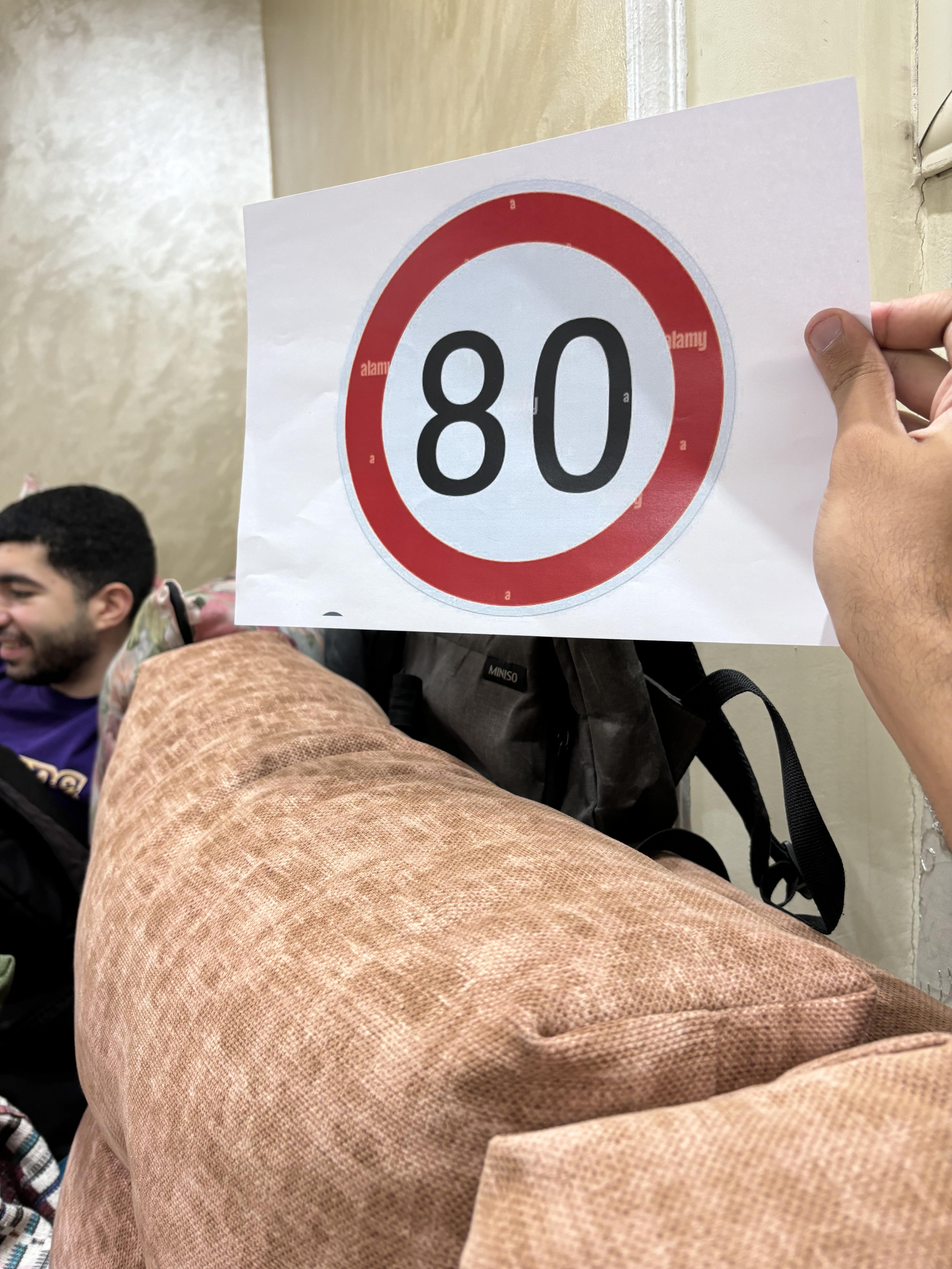80-Speed: (309, 192, 744, 602)
